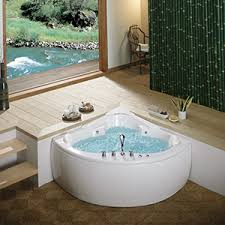bathub: (50, 107, 196, 205)
